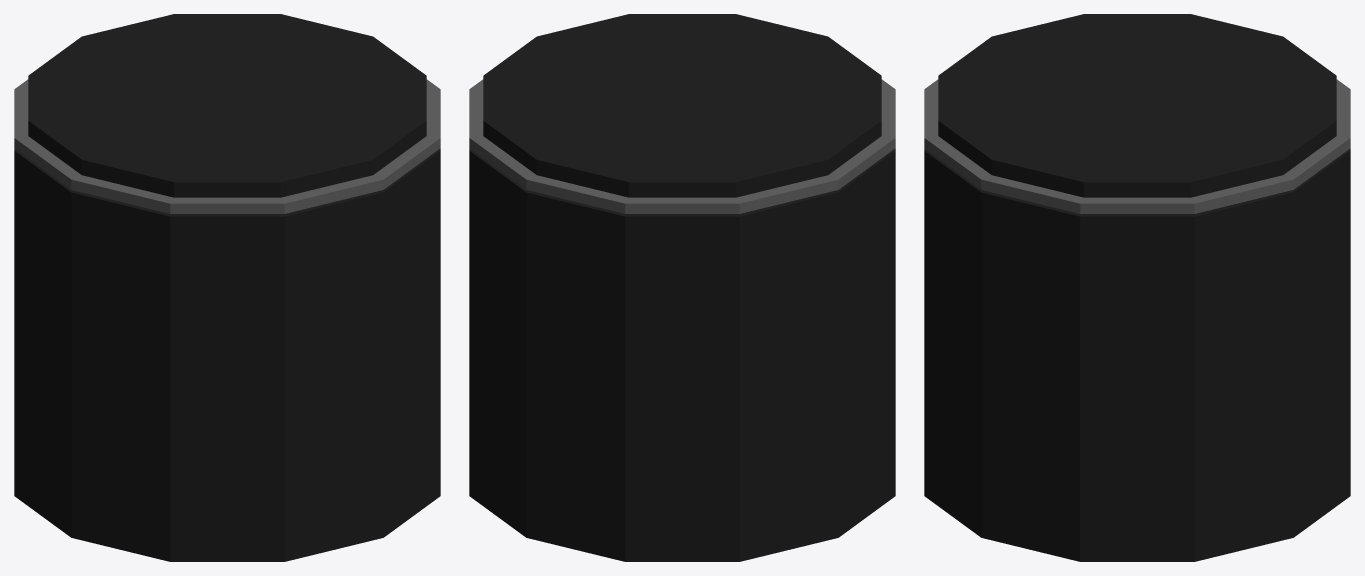
The model's file is scroll.gltf.
3 views of the same model, side by side, from view 1: azimuth 30°, elevation 25°; view 2: azimuth 150°, elevation 25°; view 3: azimuth 270°, elevation 25° (orthographic).
Parts seen in each view (by area): view 1: cylinder (×3); view 2: cylinder (×3); view 3: cylinder (×3).
Boxes of the visible parts, x1,y1,x2,y2 form: cylinder (×3): (14, 14, 440, 561); cylinder (×3): (469, 14, 895, 561); cylinder (×3): (924, 14, 1350, 561).
Bounding box in the file's own units: 0.9375 × 0.9688 × 0.9375.
1 material, 1 textured.
